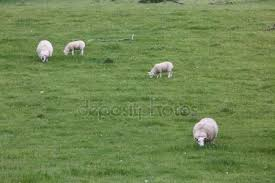sheep: (191, 117, 218, 149), (63, 39, 86, 59), (148, 60, 172, 79), (37, 40, 55, 62)
